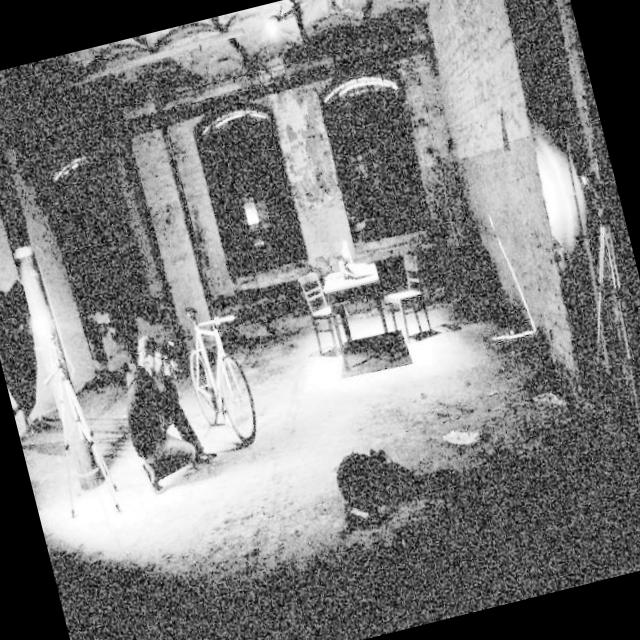Bicycle: (168, 283, 274, 460)
Person: (98, 310, 224, 496)
